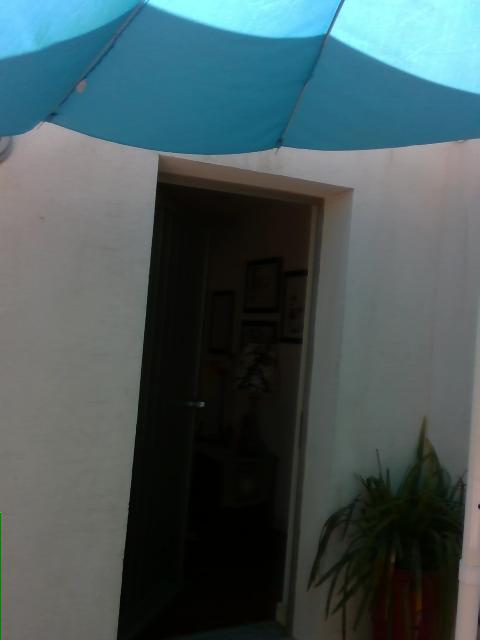semi_door: (114, 152, 357, 639)
